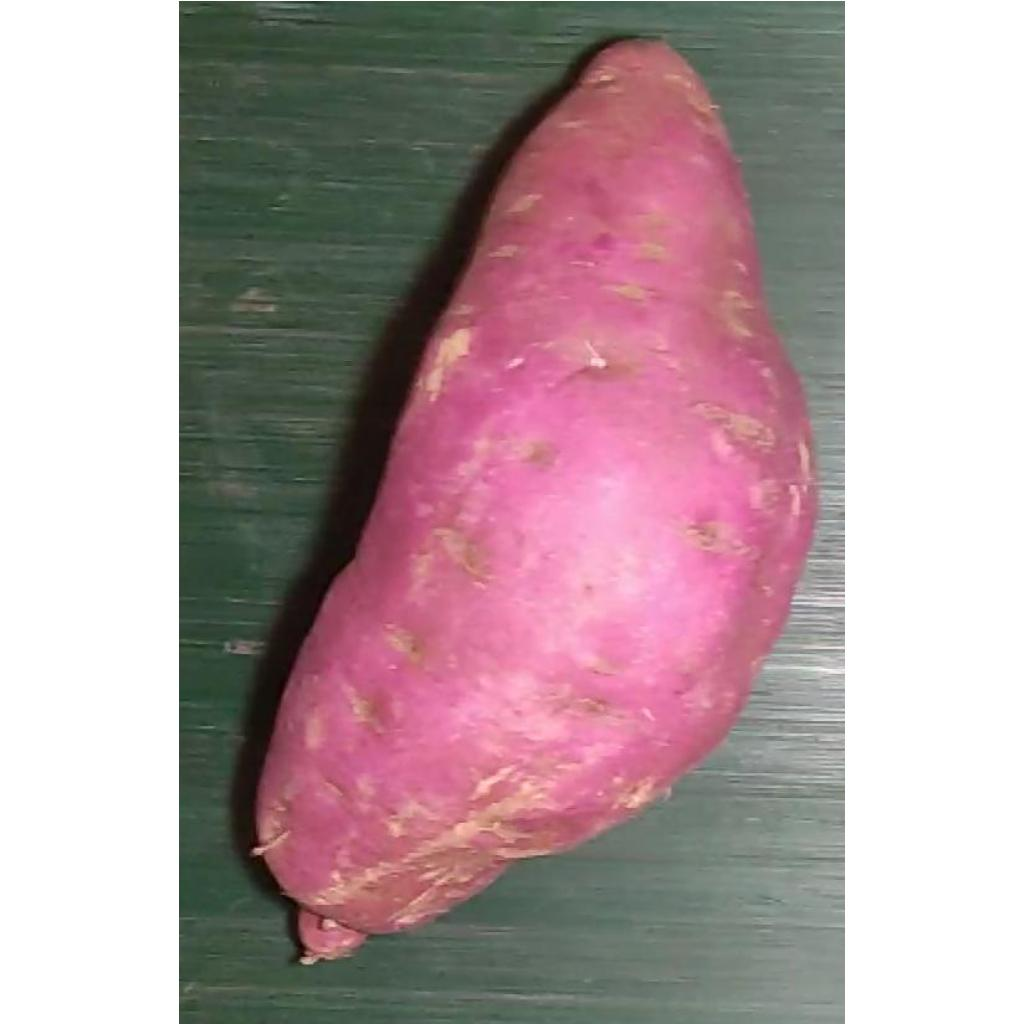Sweet Potato: (249, 35, 820, 961)
